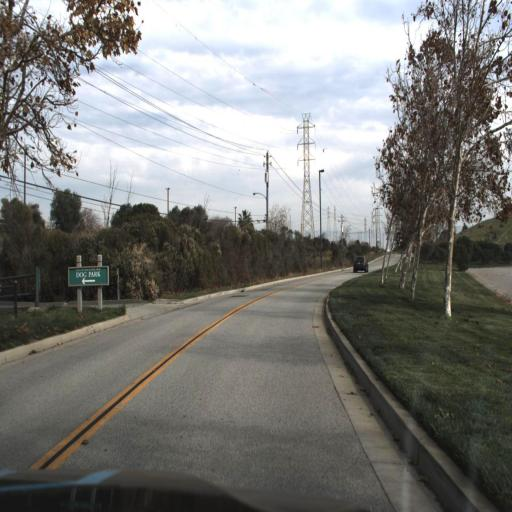car: (350, 252, 372, 276)
